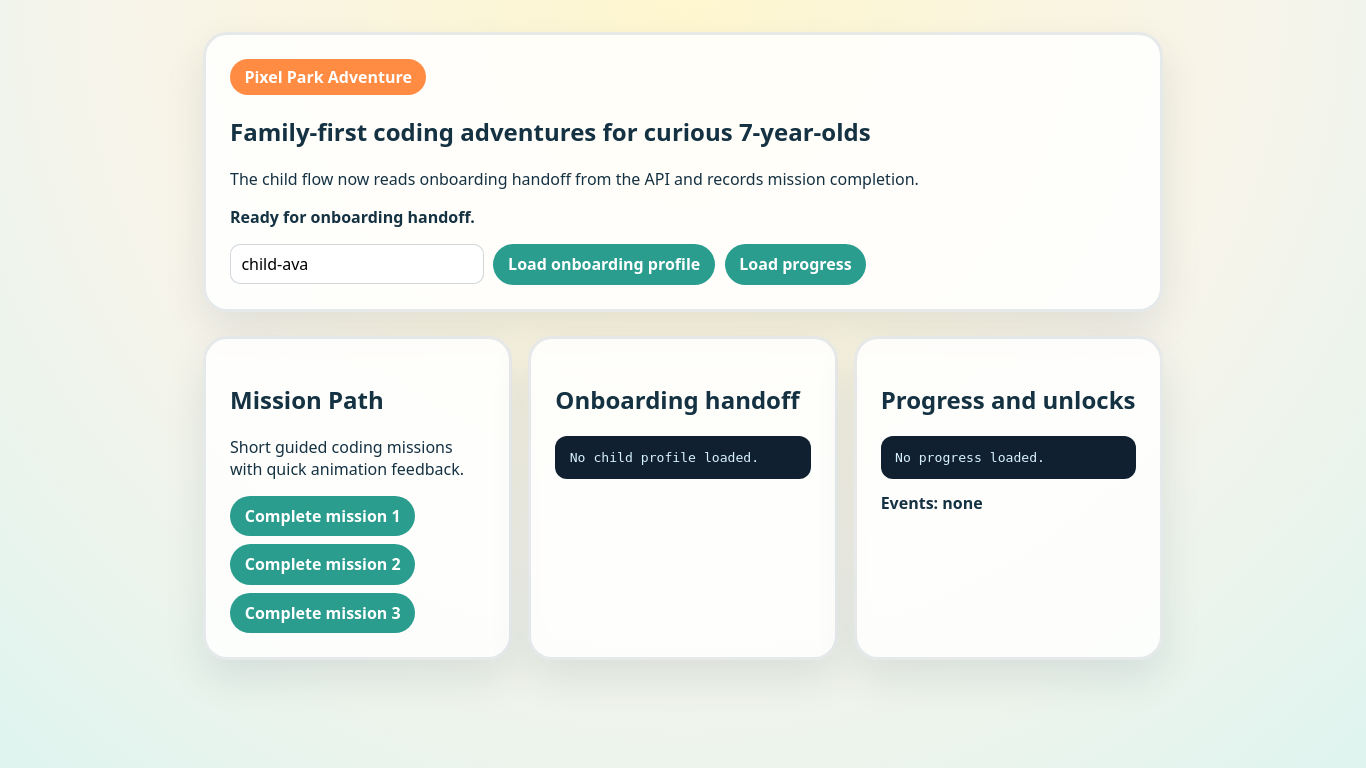
it: Child HomePage › shows field-level validation errors from the API
The image size is (1366, 768).
Step 1. Click the button "Load onboarding profile" → x=604, y=264, box [493,244,715,285]
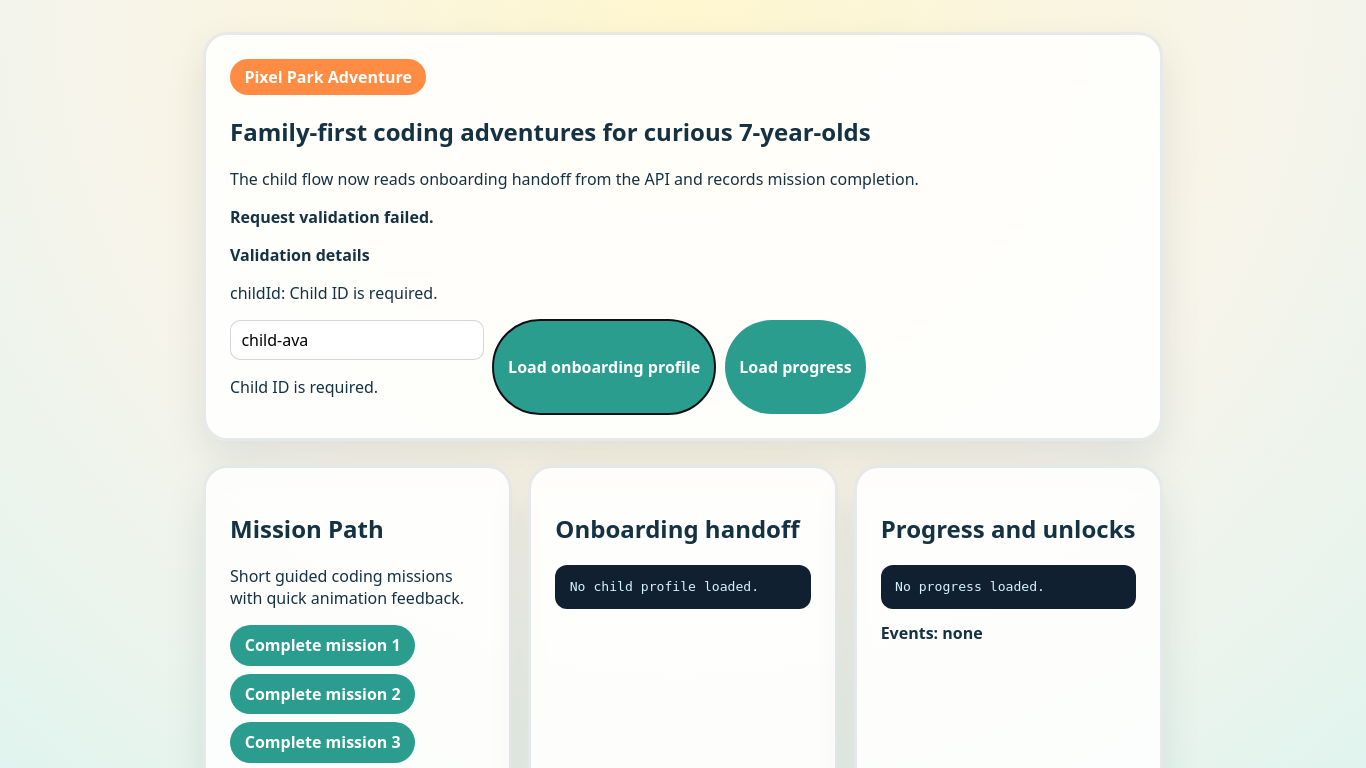
Expected: the text "Request validation failed." is shown, [230,206,434,228]
Expected: the text "childId: Child ID is required." is shown, [230,282,438,304]
